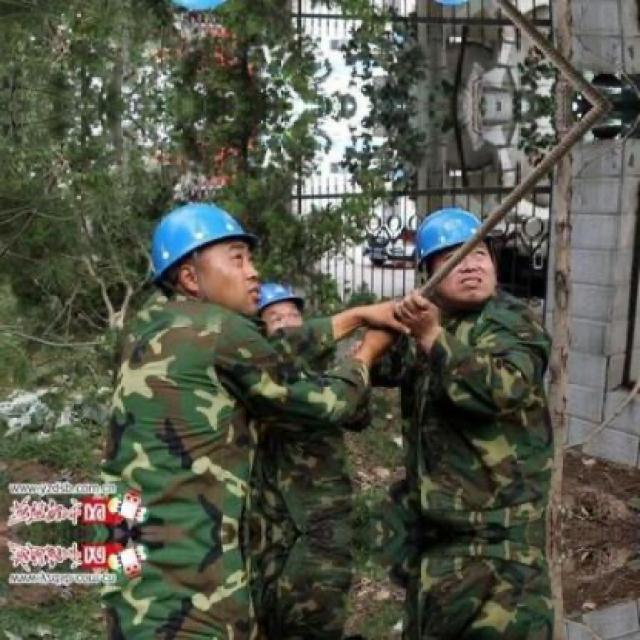helmet: (137, 193, 269, 319), (404, 199, 494, 307), (250, 279, 308, 339)
